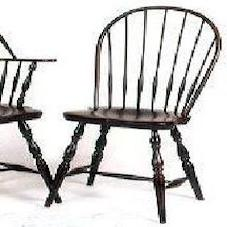chair: (62, 6, 207, 223)
